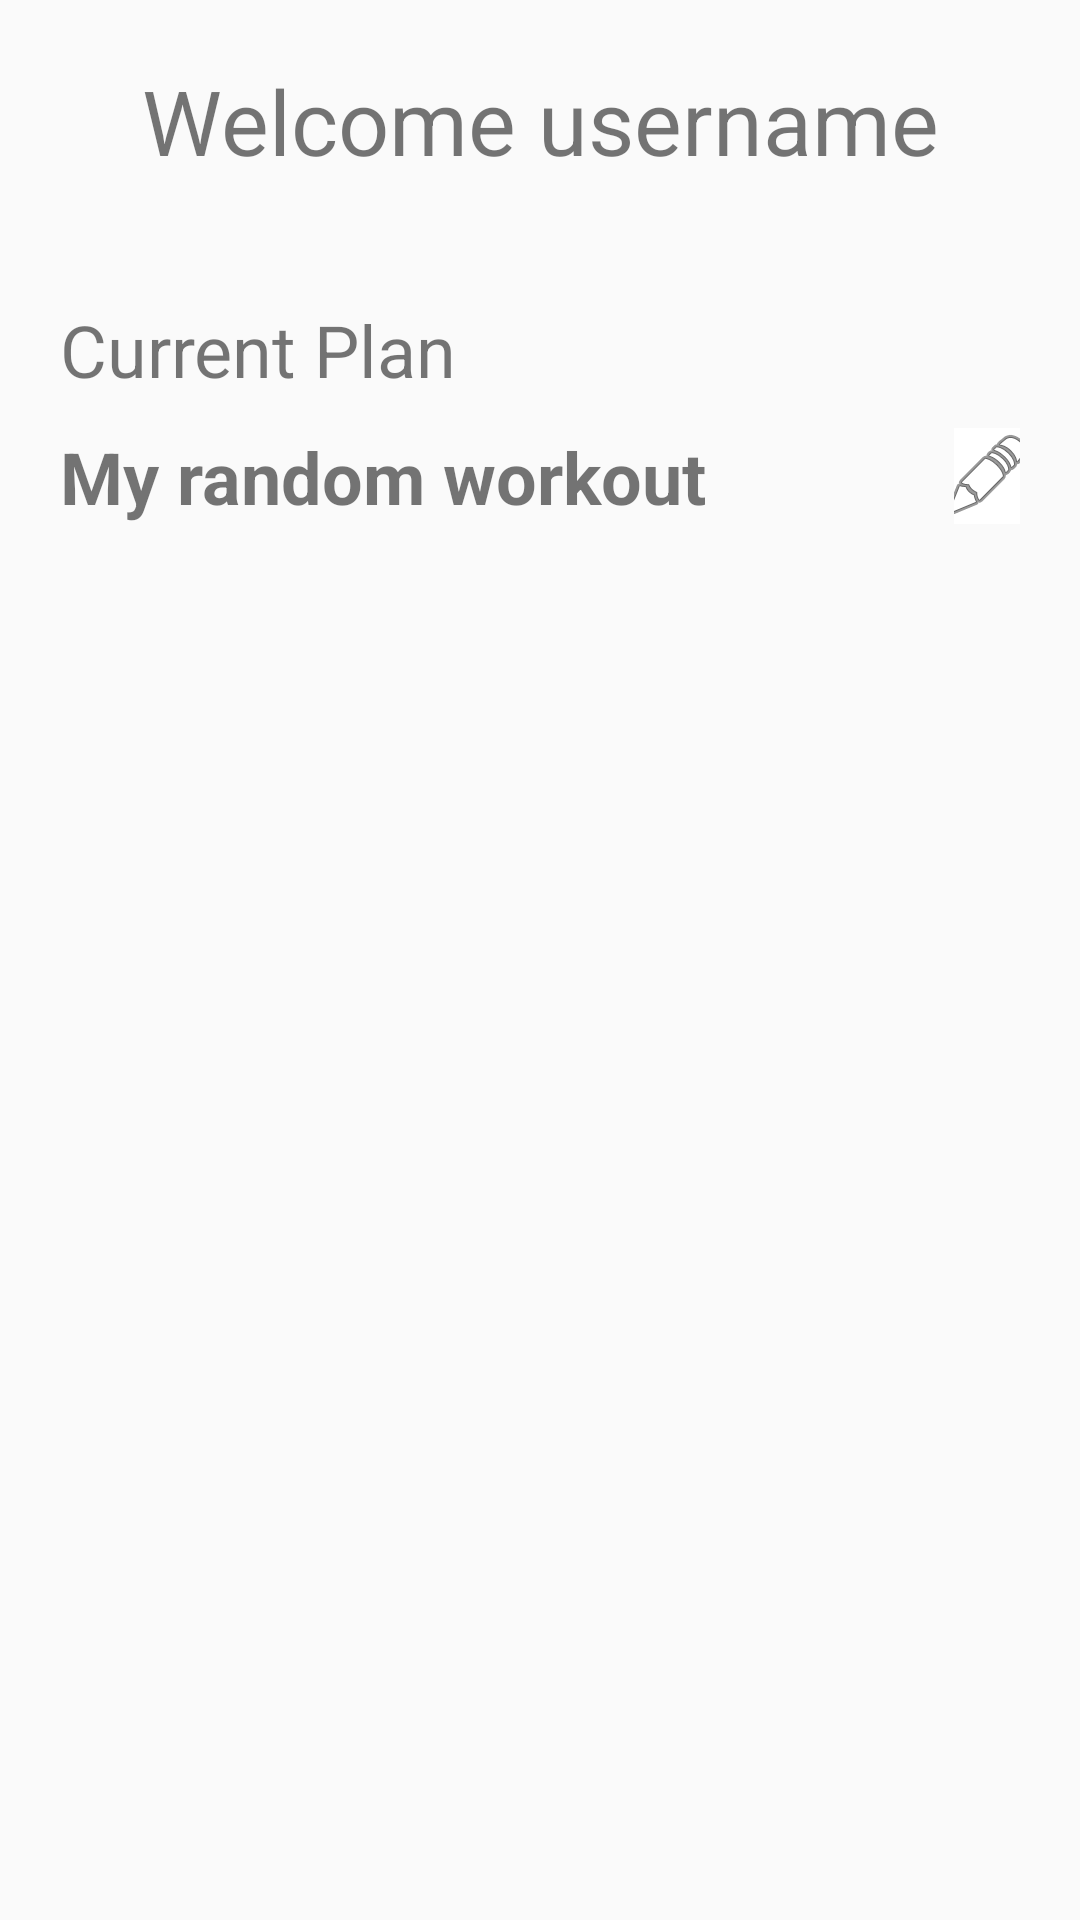

Where icons sit on this 1080 x 1920 app screen, as (x1, y1, x2, y2):
edit: (954, 435, 1020, 514)
